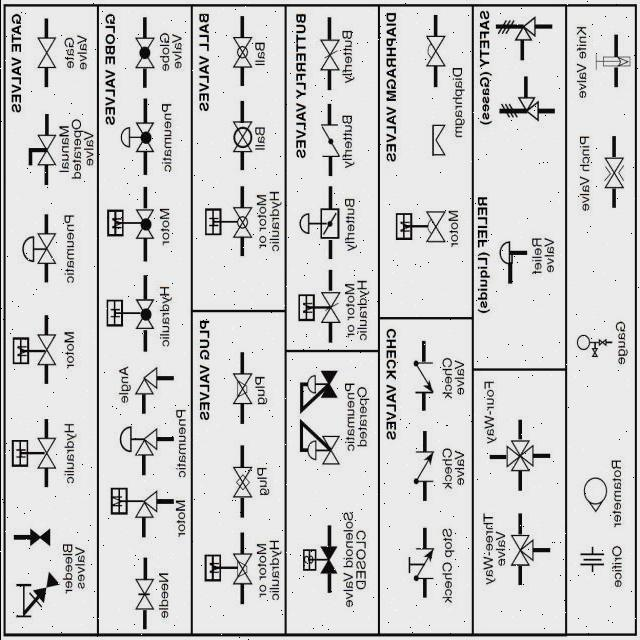3 Way Gate Valve: (507, 528, 537, 579)
4 Way Gate Valve: (501, 430, 541, 490)
Angle Valve: (132, 364, 164, 404)
BackPressure Regulator: (294, 363, 342, 418)
Ball Valve: (223, 106, 256, 167), (227, 32, 253, 72)
Bleeder Valve: (13, 567, 58, 622), (11, 520, 53, 553)
Butterfly Valve: (314, 102, 336, 170), (316, 30, 341, 79)
Check Valve: (402, 426, 435, 488), (408, 356, 438, 408)
Cock Valve: (22, 124, 58, 178)
Diaphragm Valve: (420, 102, 445, 172), (418, 34, 449, 76)
Gate Valve: (32, 32, 62, 74)
Gauge: (572, 313, 610, 374)
Globe Valve: (129, 23, 156, 81)
Hydraulic Operated Ball Valve: (200, 190, 254, 250)
Hydraulic Operated Gate Valve: (8, 432, 58, 478)
Hydraulic Operated Globe Valve: (101, 284, 154, 344)
Knife Valve: (591, 36, 635, 76)
Motor Operated Angle Valve: (102, 478, 168, 538)
Motor Operated Butterfly Valve: (292, 284, 346, 336)
Motor Operated Diaphragm Valve: (386, 187, 450, 260)
Motor Operated Gate Valve: (10, 326, 58, 375)
Motor Operated Globe Valve: (100, 193, 160, 249)
Motor Operated Plug Valve: (200, 552, 252, 588)
Needle Valve: (128, 572, 156, 620)
Orifice: (570, 546, 608, 580)
PRV: (494, 213, 526, 300)
PSV: (494, 80, 552, 149), (506, 8, 554, 64)
Pinch Valve: (596, 138, 630, 204)
Plug Valve: (222, 460, 255, 512), (228, 366, 256, 414)
Pneumatic-Diaphragm Angle Valve: (109, 422, 170, 470)
Pneumatic-Diaphragm Butterfly Valve: (298, 197, 342, 251)
Pneumatic-Diaphragm Gate Valve: (17, 228, 55, 274)
Pneumatic-Diaphragm Globe Valve: (119, 112, 153, 166)
Pressure Regulator: (290, 416, 344, 474)
Rotameter: (573, 472, 613, 522)
Solenoid Closed Valve: (296, 536, 338, 584)
Stop Valve: (391, 528, 439, 606)
